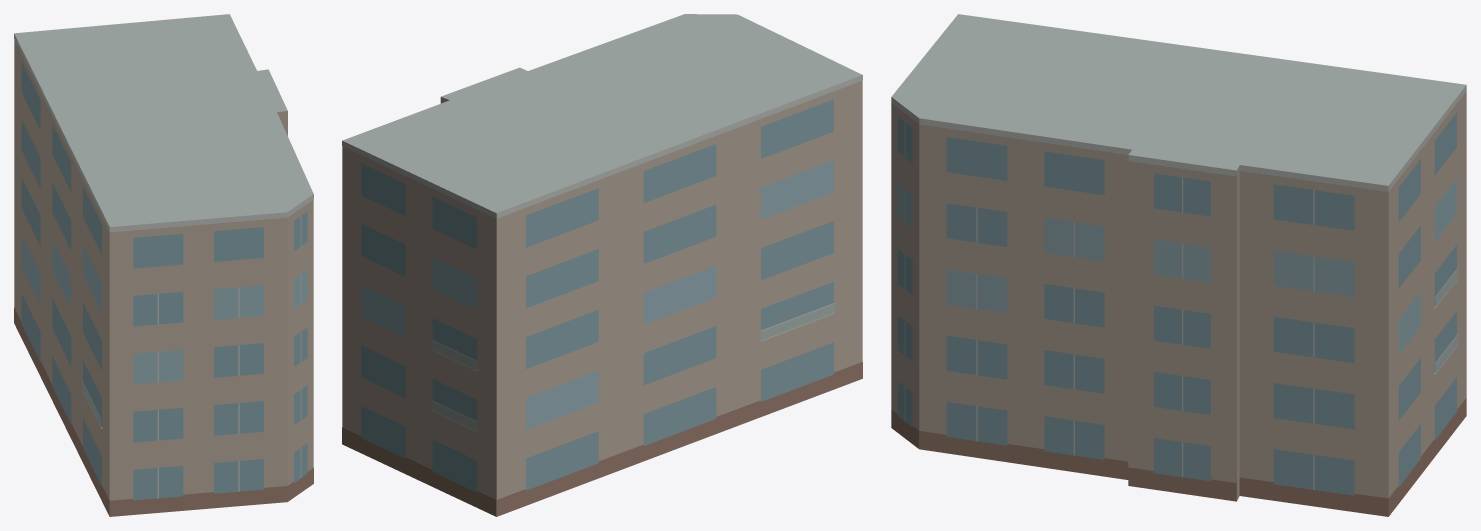
The model's file is survey-upis-32710349.glb.
The picture shows the model from 3 angles, left to right: view 1: azimuth 30°, elevation 25°; view 2: azimuth 150°, elevation 25°; view 3: azimuth 270°, elevation 25°; orthographic projection. The views are drawn at different scales.
Parts seen in each view (by area): view 1: survey-upis-32710349.tmp; view 2: survey-upis-32710349.tmp; view 3: survey-upis-32710349.tmp.
Part boxes in pixels (bbox=[...]): survey-upis-32710349.tmp: bbox=[14, 14, 313, 516]; survey-upis-32710349.tmp: bbox=[342, 14, 862, 516]; survey-upis-32710349.tmp: bbox=[891, 14, 1466, 516].
Size of the model in its own units: 14.93 by 13.4 by 21.12.
